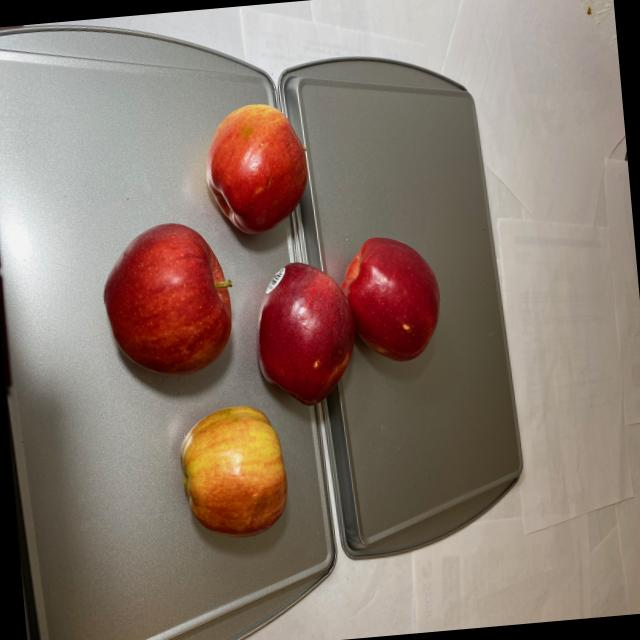apple: (86, 85, 456, 548)
